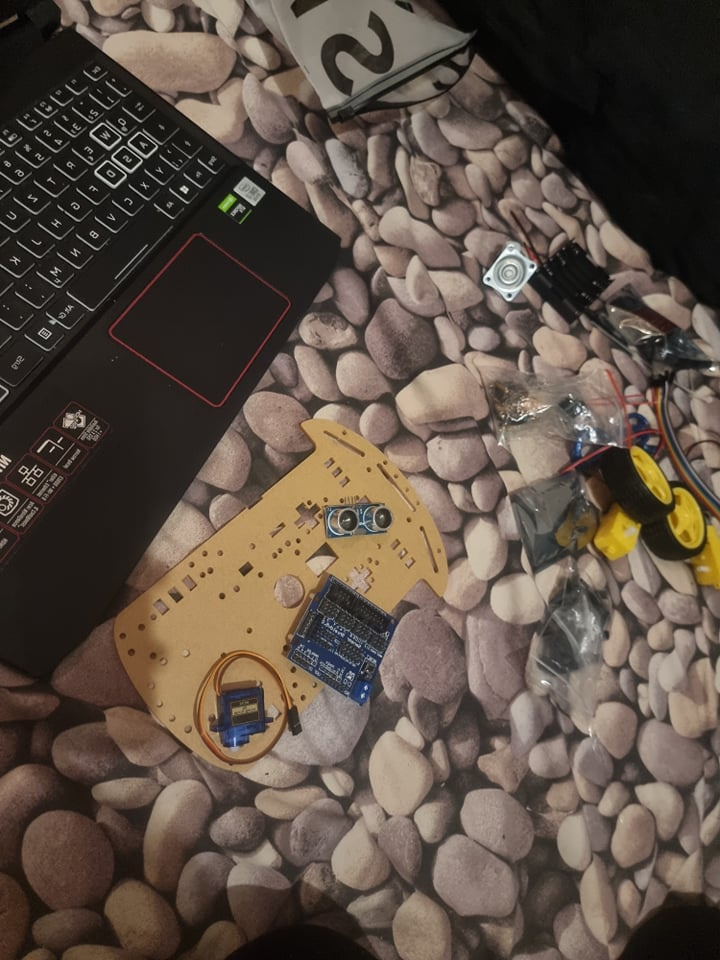5V EXPANSION: (284, 576, 402, 703)
BATTERY BOX: (531, 239, 617, 320)
SENSOR: (319, 499, 398, 538)
